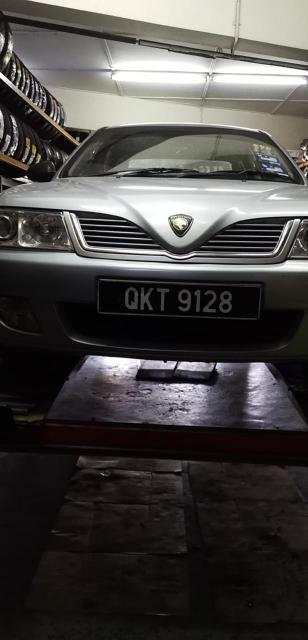License_Plate: (103, 282, 262, 322)
car: (1, 110, 308, 391)
